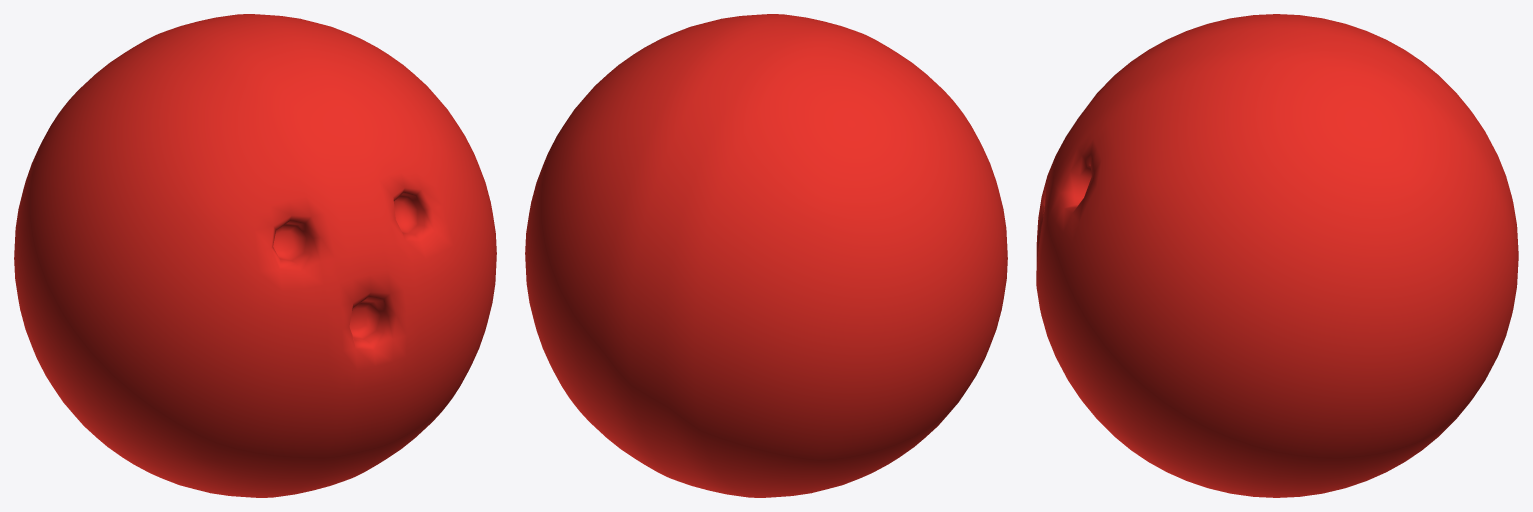
Rendered from Ball.fbx.
3 views of the same model, side by side, from view 1: azimuth 30°, elevation 25°; view 2: azimuth 150°, elevation 25°; view 3: azimuth 270°, elevation 25° (orthographic).
Visible parts, largest first — view 1: Cube; view 2: Cube; view 3: Cube.
Part boxes in pixels (x1,y1,x2,y2): Cube: (14, 14, 496, 497); Cube: (525, 14, 1007, 497); Cube: (1036, 14, 1518, 497).
Bounding box in the file's own units: 169 × 169 × 168.
